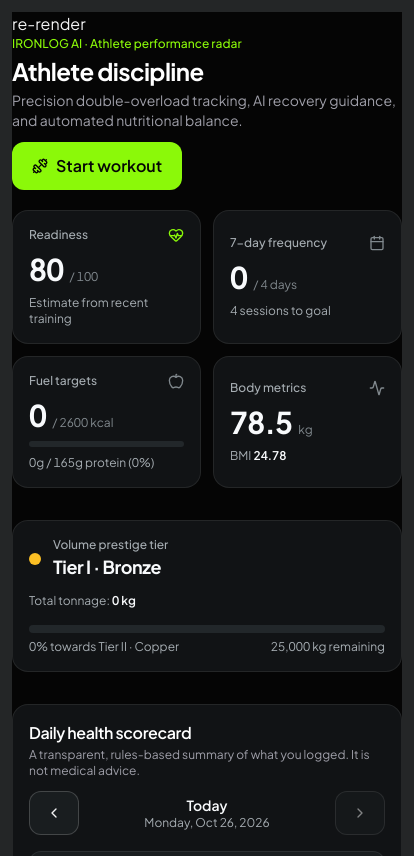
Scenario: date navigation inside the dashboard › moves between days, never past today, and returns to today
Expected: the button named "Next day" is disabled, [335,791,385,835]
Click the button named "Previous day".
click(54, 813)  # box [29,791,79,835]
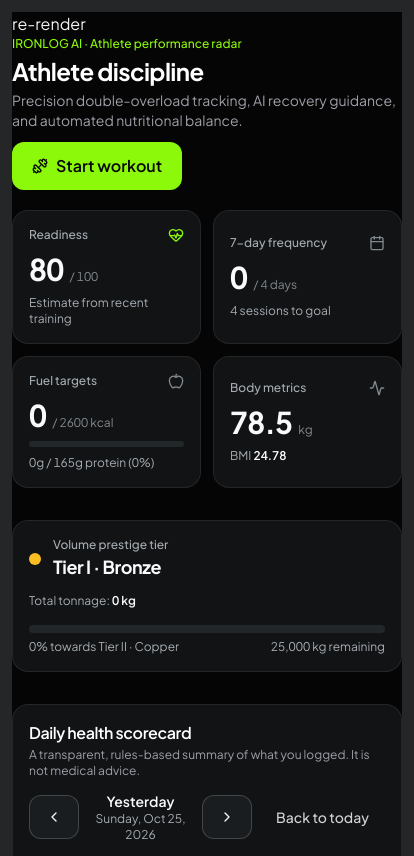
Expected: the button named "Next day" is enabled, [202,795,252,839]
Click the button named "Previous day".
click(54, 817)  # box [29,795,79,839]
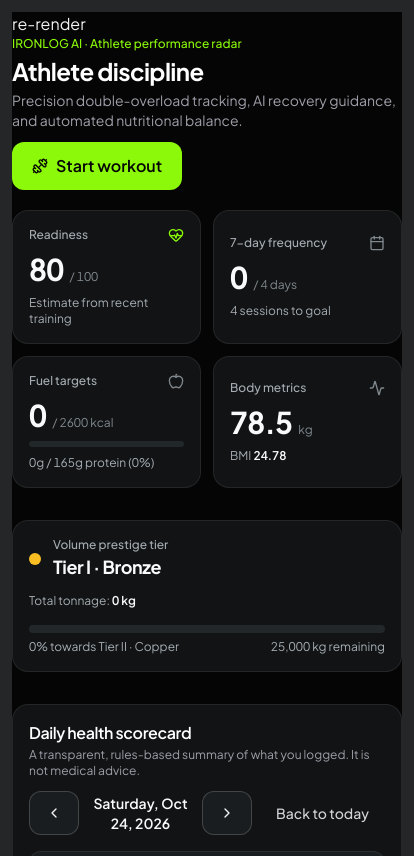
Click the button "Back to today".
click(322, 813)  # box [260,791,385,835]
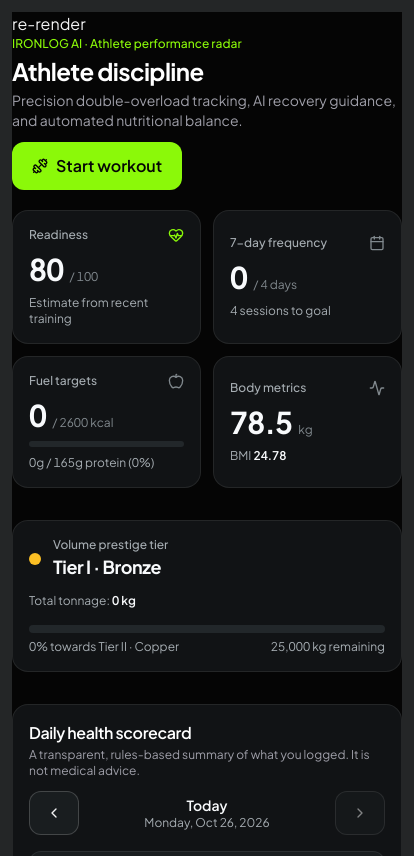
Expected: the button named "Next day" is disabled, [335,791,385,835]
